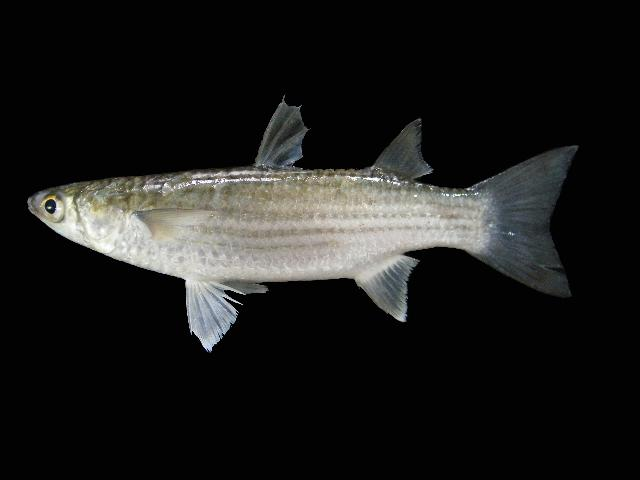Mulut: (18, 180, 50, 226)
Sirip Anal: (350, 246, 428, 324)
Sirip Dada: (126, 190, 224, 254)
Sirip Ekor: (478, 132, 580, 308)
Sirip Perut: (178, 260, 272, 347)
Sirip Punggung: (248, 93, 442, 185)
